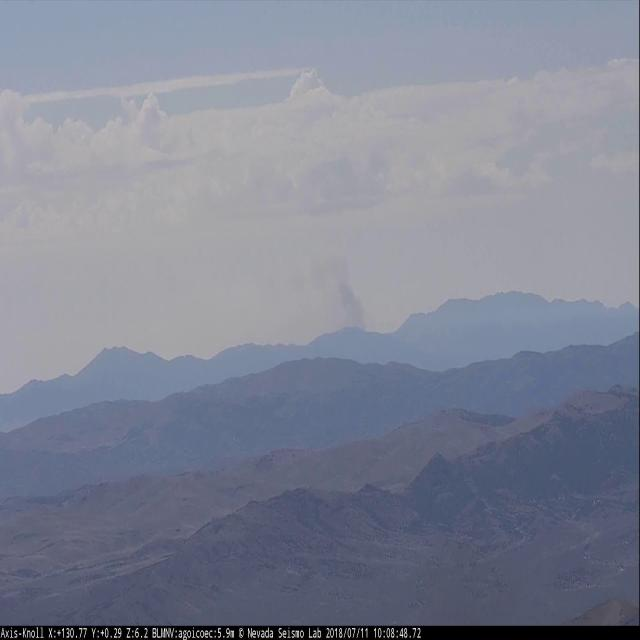smoke: (289, 259, 372, 335)
